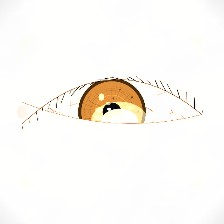corneal_ulcer: (89, 98, 150, 146)
